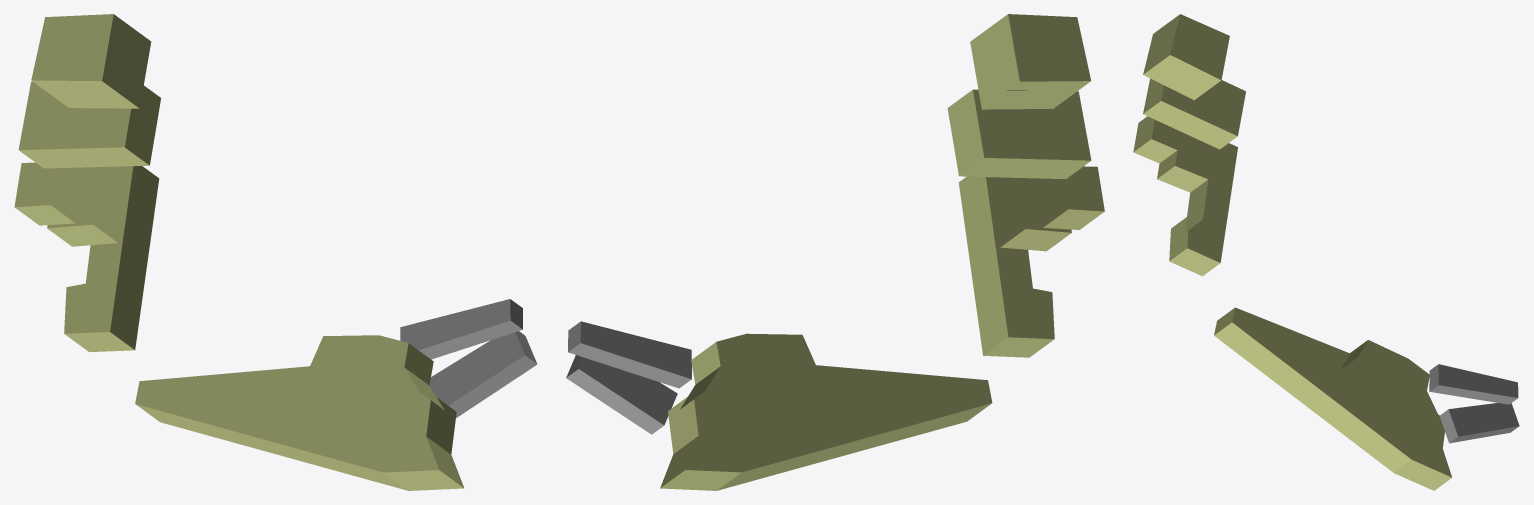
3 views of the same model, side by side, from view 1: azimuth 30°, elevation 25°; view 2: azimuth 150°, elevation 25°; view 3: azimuth 330°, elevation 25° (orthographic). The views are drawn at different scales.
Visible parts, largest first — view 1: 0_1_0_0_2_1_0_0; view 2: 0_1_0_0_2_1_0_0; view 3: 0_1_0_0_2_1_0_0.
Boxes of the visible parts, x1,y1,x2,y2 form: 0_1_0_0_2_1_0_0: (14,14,537,490); 0_1_0_0_2_1_0_0: (566,14,1104,490); 0_1_0_0_2_1_0_0: (1133,14,1519,490).
Bounding box in the file's own units: 70.34 × 71.24 × 9.2.
